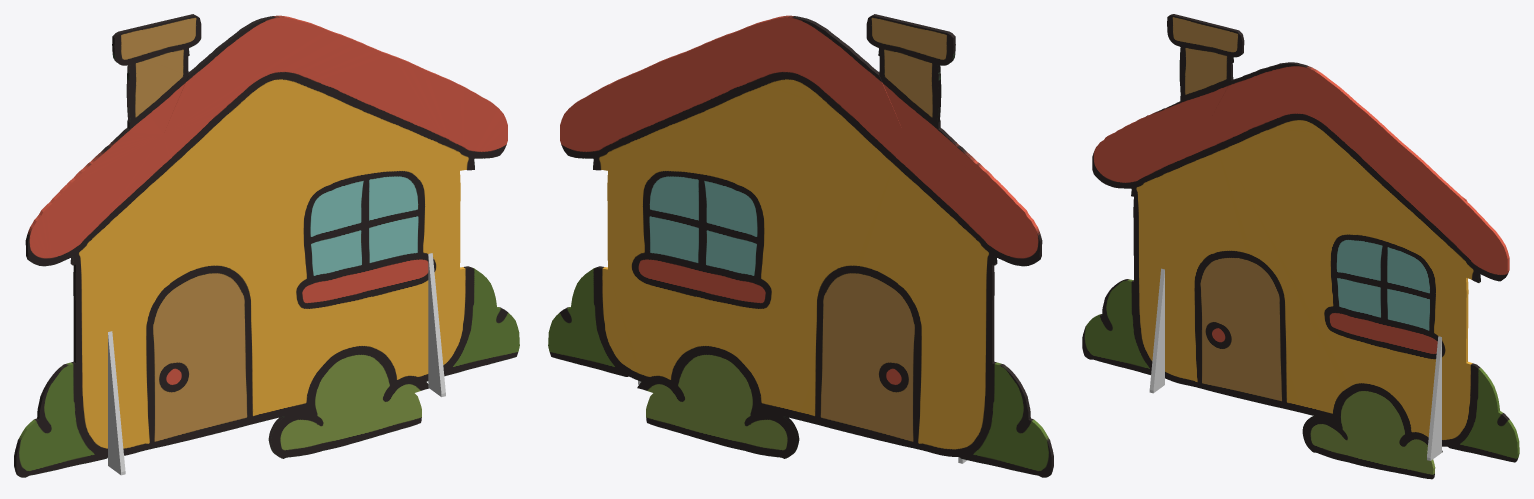
File: house1.fbx
3 views of the same model, side by side, from view 1: azimuth 30°, elevation 25°; view 2: azimuth 150°, elevation 25°; view 3: azimuth 330°, elevation 25° (orthographic). The views are drawn at different scales.
Visible parts, largest first — view 1: ImageToStl.com_—pngtree—cartoon house illustration_8780, Cube.002, Cube.001; view 2: ImageToStl.com_—pngtree—cartoon house illustration_8780; view 3: ImageToStl.com_—pngtree—cartoon house illustration_8780, Cube.001, Cube.002.
Boxes of the visible parts, bbox=[...] form: ImageToStl.com_—pngtree—cartoon house illustration_8780: bbox=[14, 14, 519, 477]; Cube.002: bbox=[428, 253, 445, 397]; Cube.001: bbox=[108, 331, 125, 475]; ImageToStl.com_—pngtree—cartoon house illustration_8780: bbox=[548, 14, 1053, 477]; ImageToStl.com_—pngtree—cartoon house illustration_8780: bbox=[1082, 14, 1519, 479]; Cube.001: bbox=[1149, 268, 1164, 393]; Cube.002: bbox=[1427, 336, 1441, 460].
Bounding box in the file's own units: 603 × 544 × 35.19.
